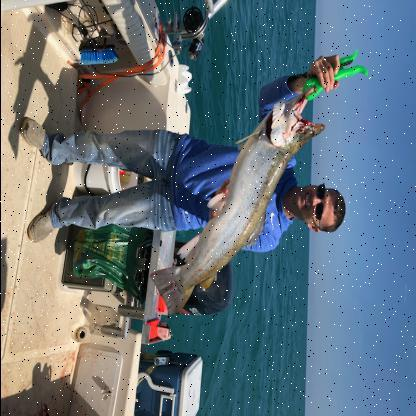fish: (152, 79, 326, 313)
